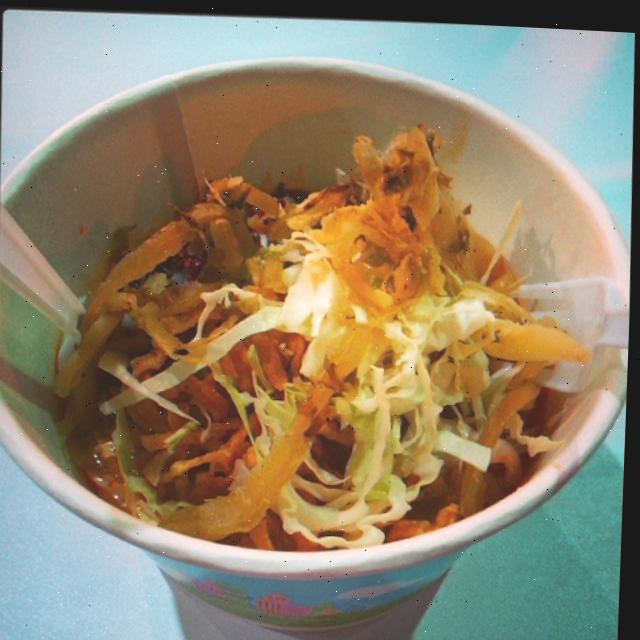面条主食: (25, 74, 587, 587)
